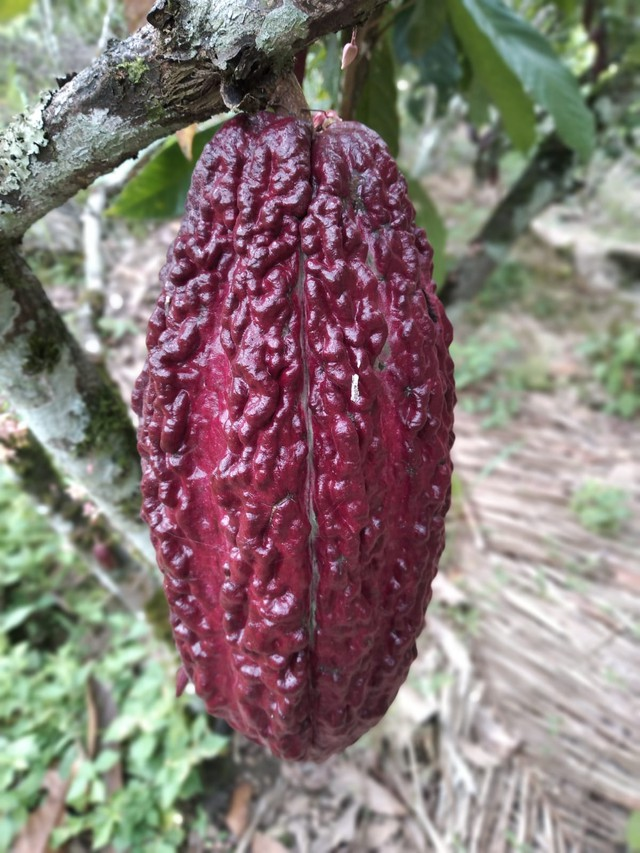Health: (115, 106, 472, 776)
